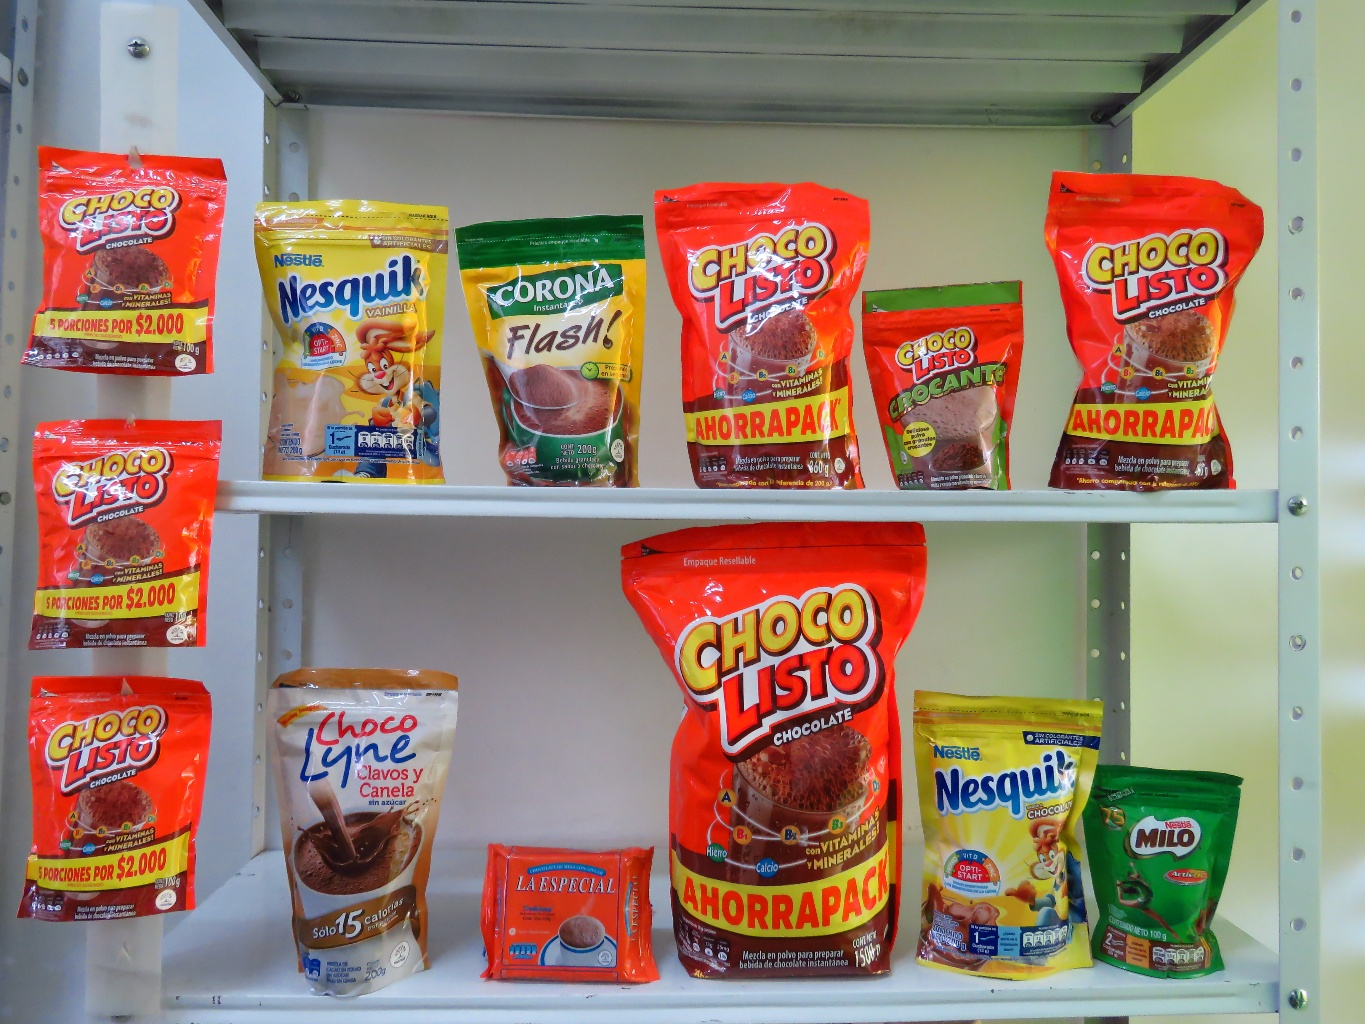COL0170102DYP10000: (857, 273, 1036, 494)
COL0170103DYP1,500: (616, 520, 925, 976)
COL0170103DYP10000: (32, 668, 216, 921)
COL0170103DYP36000: (643, 168, 865, 487)
COL0170103DYP40000: (1051, 165, 1257, 490)
COL0170203DYP10000: (1080, 764, 1245, 983)
COL0170303DYP20000: (909, 683, 1108, 975)
COL0170306DYP20000: (236, 195, 450, 483)
